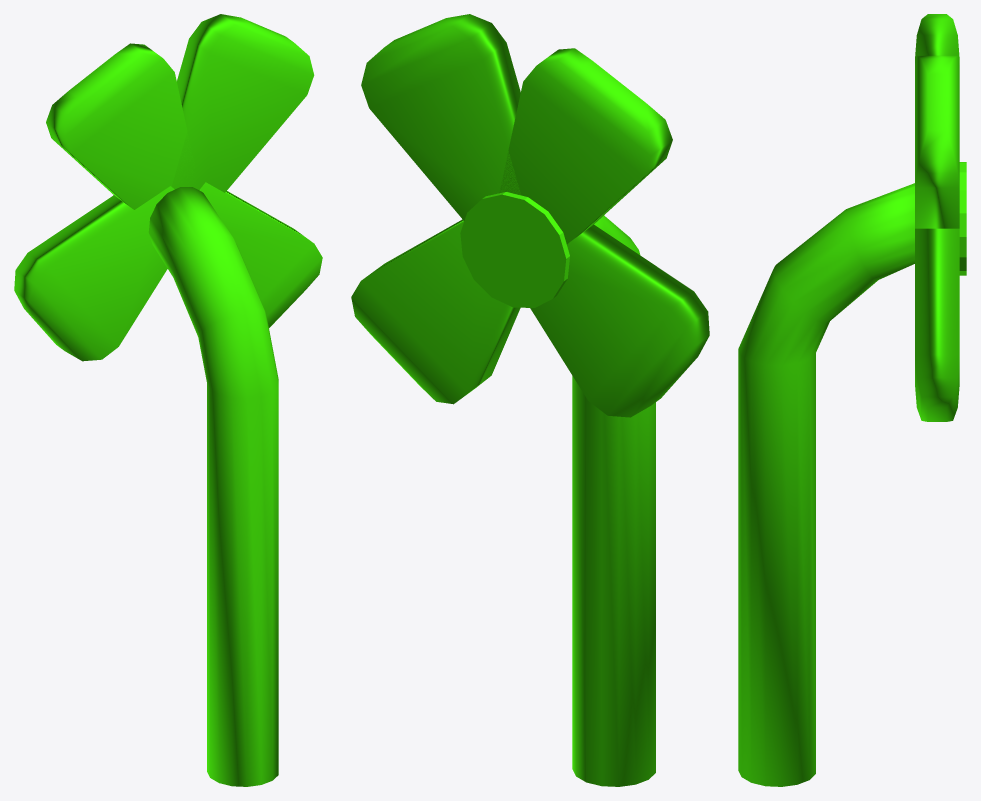
File: Four Leaf Clover.fbx
3 views of the same model, side by side, from view 1: azimuth 30°, elevation 25°; view 2: azimuth 150°, elevation 25°; view 3: azimuth 270°, elevation 25° (orthographic). The views are drawn at different scales.
Parts seen in each view (by area): view 1: Cylinder.001; view 2: Cylinder.001; view 3: Cylinder.001.
Part boxes in pixels (x1=…): Cylinder.001: x1=14, y1=14, x2=322, y2=786; Cylinder.001: x1=351, y1=14, x2=709, y2=786; Cylinder.001: x1=738, y1=14, x2=966, y2=786.
Size of the model in its own units: 53.08 by 119 by 33.18.
